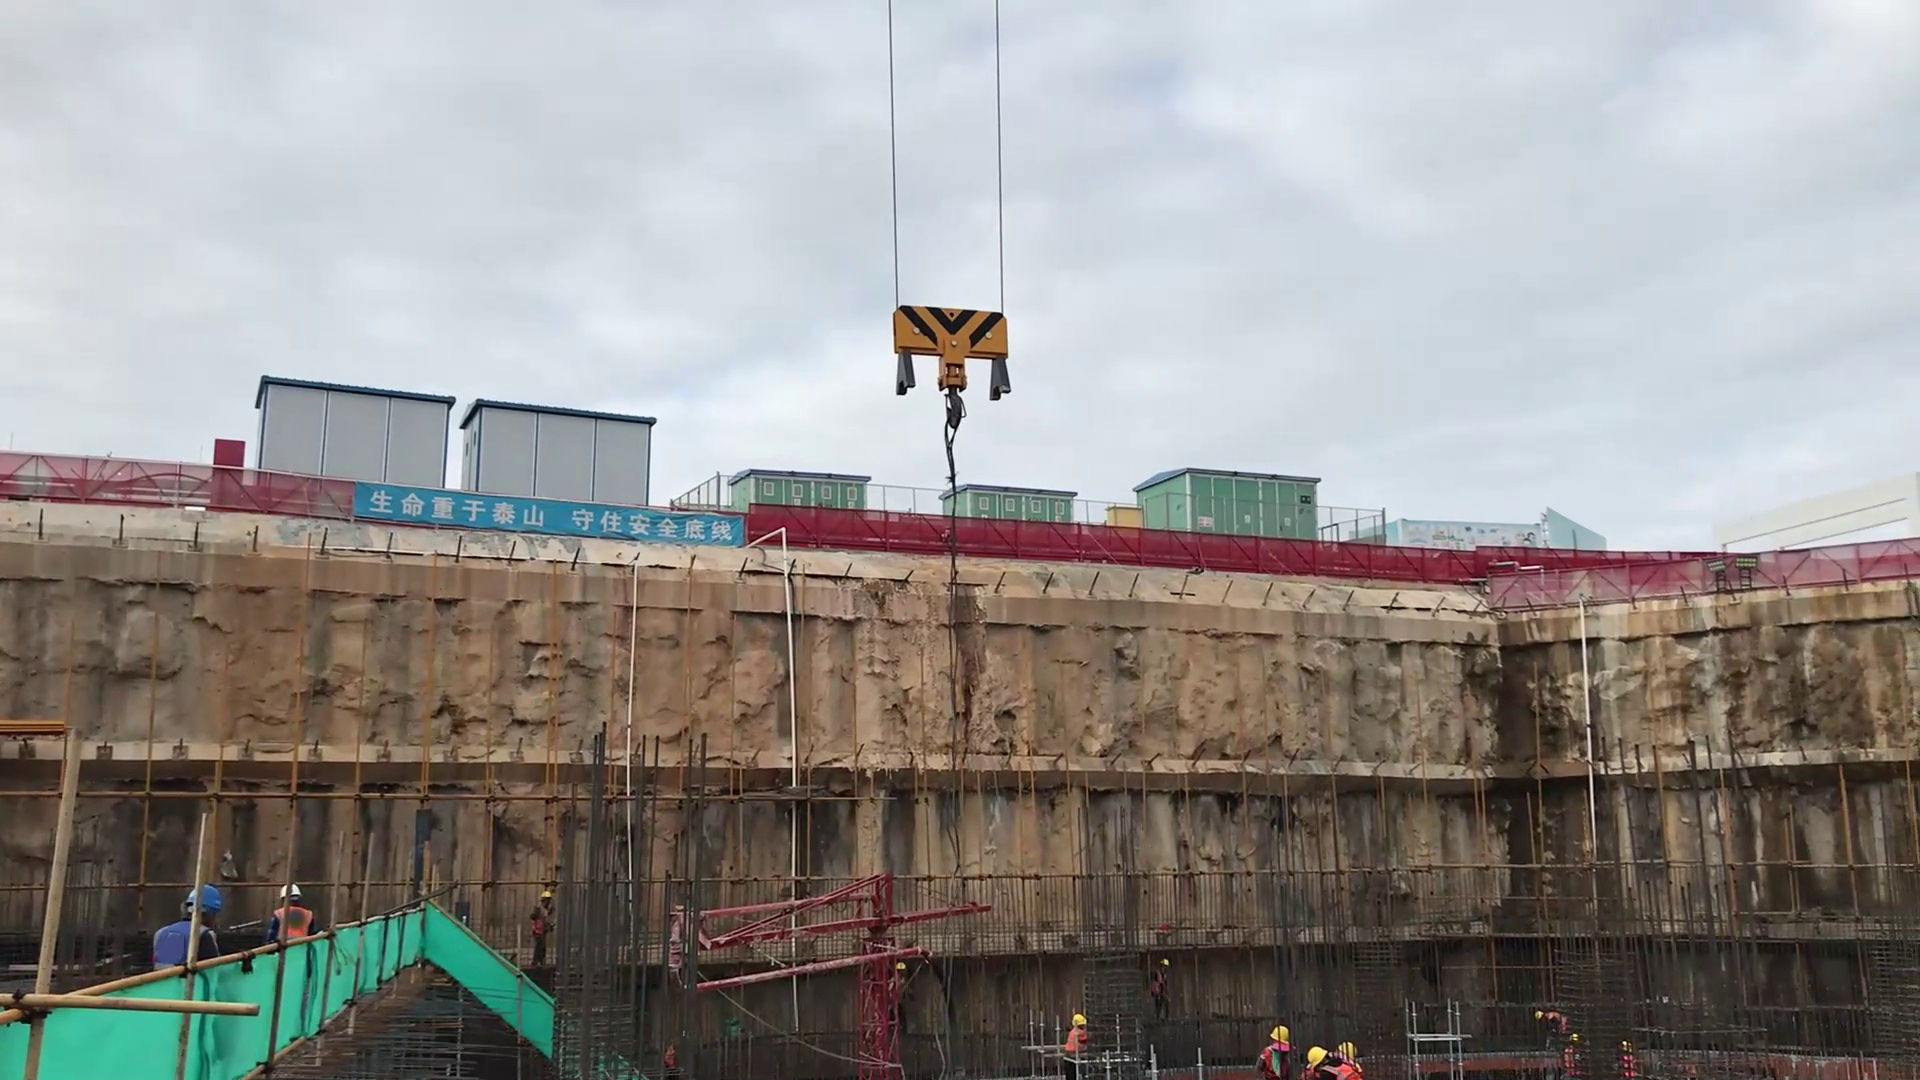ebox: (1104, 504, 1144, 529)
helmet: (184, 886, 222, 912), (1337, 1040, 1361, 1072), (1306, 1046, 1327, 1070), (1269, 1026, 1289, 1044), (279, 886, 300, 898), (1072, 1014, 1086, 1026), (1621, 1040, 1633, 1050), (1534, 1011, 1543, 1021), (1159, 958, 1170, 965), (1568, 1034, 1579, 1042), (538, 891, 552, 897)
hook: (880, 267, 1028, 465)
person: (149, 885, 222, 963), (269, 884, 312, 939), (1300, 1040, 1359, 1080), (1254, 1024, 1292, 1080), (1306, 1044, 1364, 1080), (529, 890, 555, 966), (1062, 1013, 1088, 1074), (1149, 956, 1172, 1021), (1532, 1009, 1569, 1049), (1617, 1038, 1643, 1080), (1561, 1033, 1585, 1079)
slogan: (351, 481, 743, 552)
vest: (153, 922, 203, 967), (276, 906, 310, 939), (1264, 1045, 1290, 1080), (532, 904, 552, 935), (1320, 1063, 1355, 1080), (1563, 1051, 1581, 1080), (1065, 1029, 1086, 1052), (1621, 1056, 1639, 1080), (1548, 1012, 1565, 1032)
